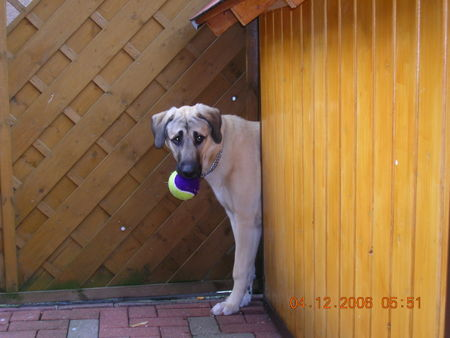kangal: (151, 102, 260, 315)
